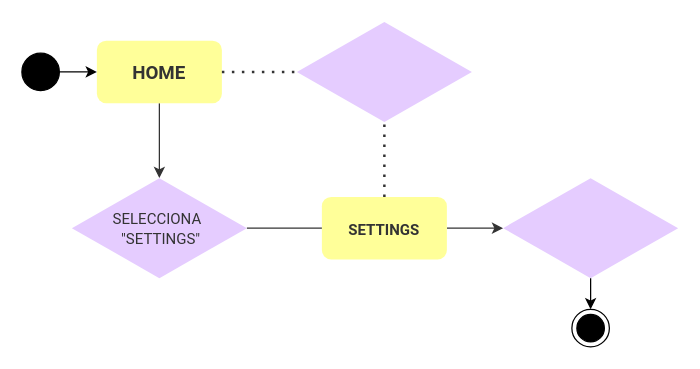
This 700x369 diagram has some shape labels left out. The shapes that lost their labels are listed below. From the top down, each one's centre as x and y in pixels, then its label:
the point at 383,71: PULSA BOTÓN SETTINGS
the point at 590,228: SELECCIONA LA NUEVA OPCIÓN EN "LANGUAGE" O "FONT SIZE"
